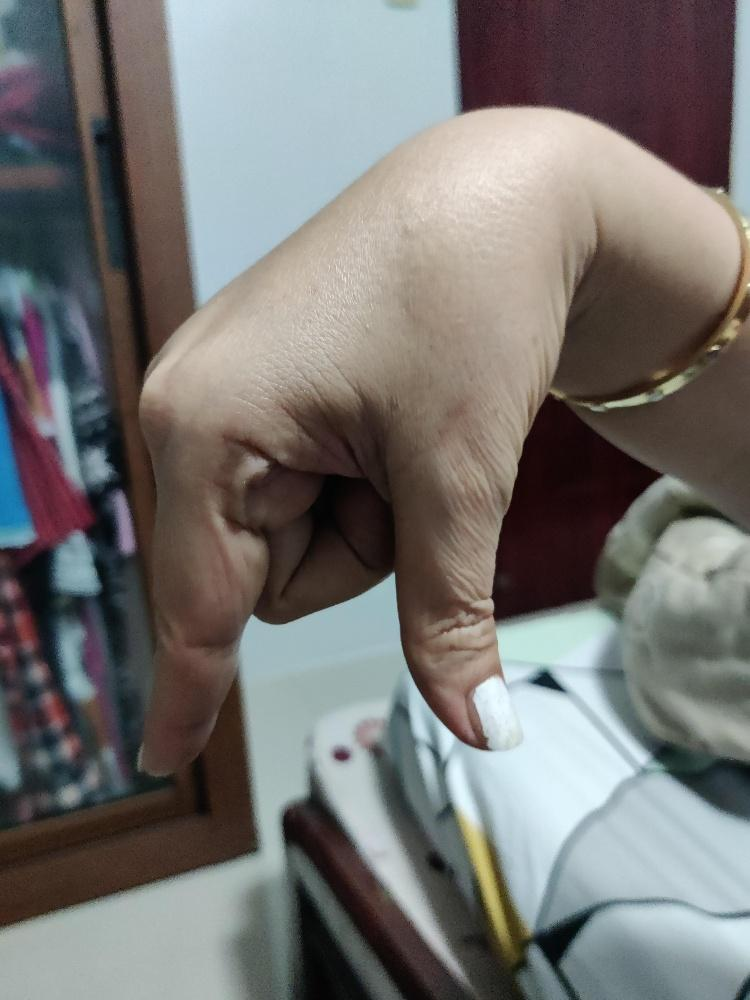q: (131, 101, 600, 780)
